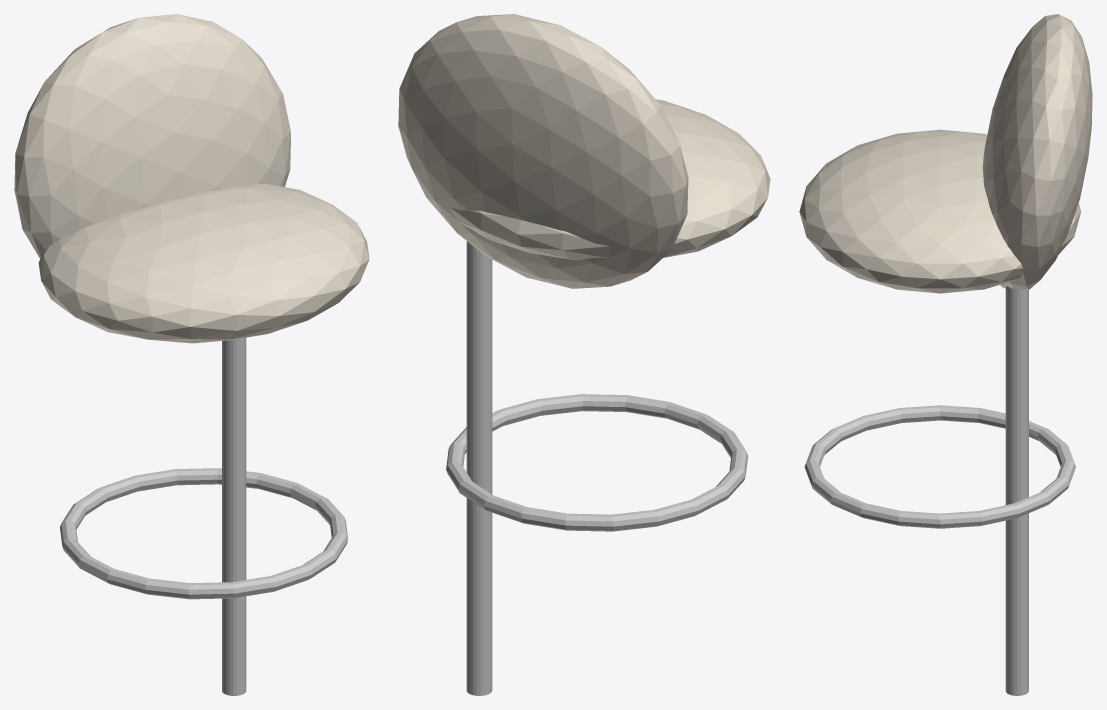
File: bar_stool_medium.glb
3 views of the same model, side by side, from view 1: azimuth 30°, elevation 25°; view 2: azimuth 150°, elevation 25°; view 3: azimuth 270°, elevation 25° (orthographic). The views are drawn at different scales.
Visible parts, largest first — view 1: FABRIC_MAIN_back, FABRIC_MAIN_seat, METAL_footrest, METAL_DARK_leg; view 2: FABRIC_MAIN_back, FABRIC_MAIN_seat, METAL_DARK_leg, METAL_footrest; view 3: FABRIC_MAIN_seat, FABRIC_MAIN_back, METAL_DARK_leg, METAL_footrest.
Part boxes in pixels (x1,y1,x2,y2): FABRIC_MAIN_back: (14,14,290,258); FABRIC_MAIN_seat: (38,183,369,343); METAL_footrest: (60,468,348,599); METAL_DARK_leg: (222,338,246,695); FABRIC_MAIN_back: (398,14,688,288); FABRIC_MAIN_seat: (450,99,770,259); METAL_DARK_leg: (466,241,492,695); METAL_footrest: (446,394,748,531); FABRIC_MAIN_seat: (799,129,1081,293); FABRIC_MAIN_back: (982,14,1092,289); METAL_DARK_leg: (1005,286,1028,695); METAL_footrest: (804,405,1075,528).
Size of the model in its own units: 0.5 by 1.09 by 0.4577.
